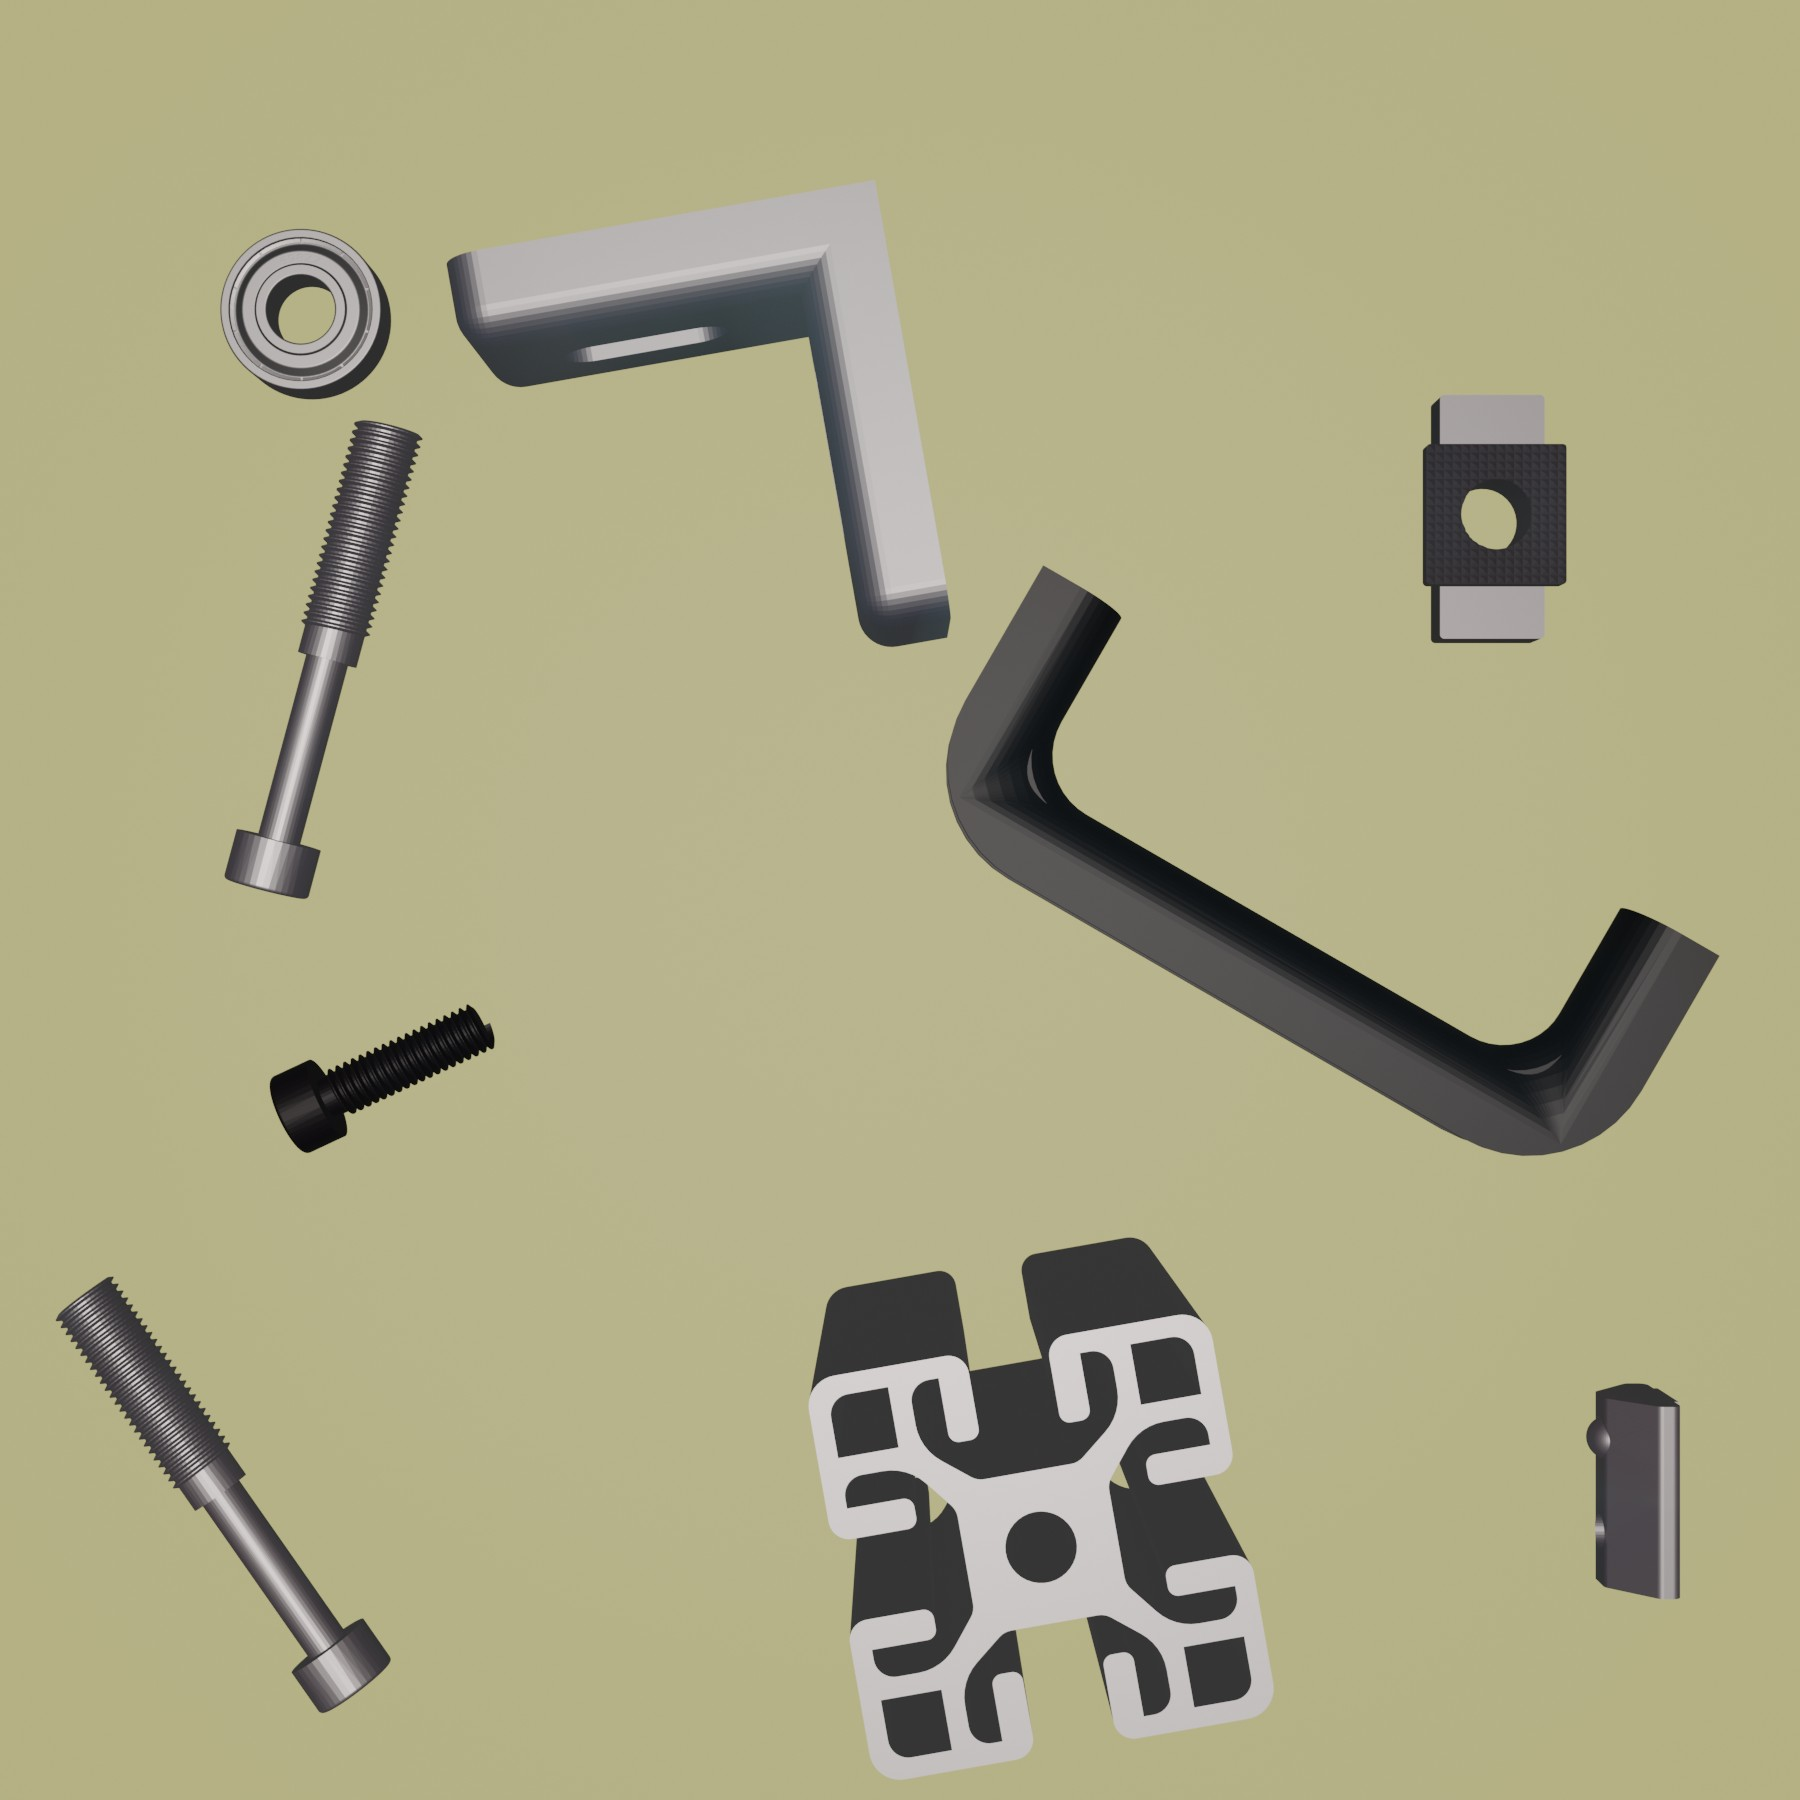Aluminium Extension: (806, 1236, 1277, 1780)
Ball Bearing: (218, 227, 392, 401)
Multiwinkel: (442, 181, 954, 651)
Pull Handle: (941, 562, 1721, 1157)
Shoulder Socket Head Cap Screw: (54, 1273, 392, 1714), (219, 415, 424, 900)
Socket Head Cap Screw: (267, 1001, 498, 1157)
T Nut Square: (1418, 387, 1569, 646)
T Spring Nut: (1581, 1378, 1683, 1605)
